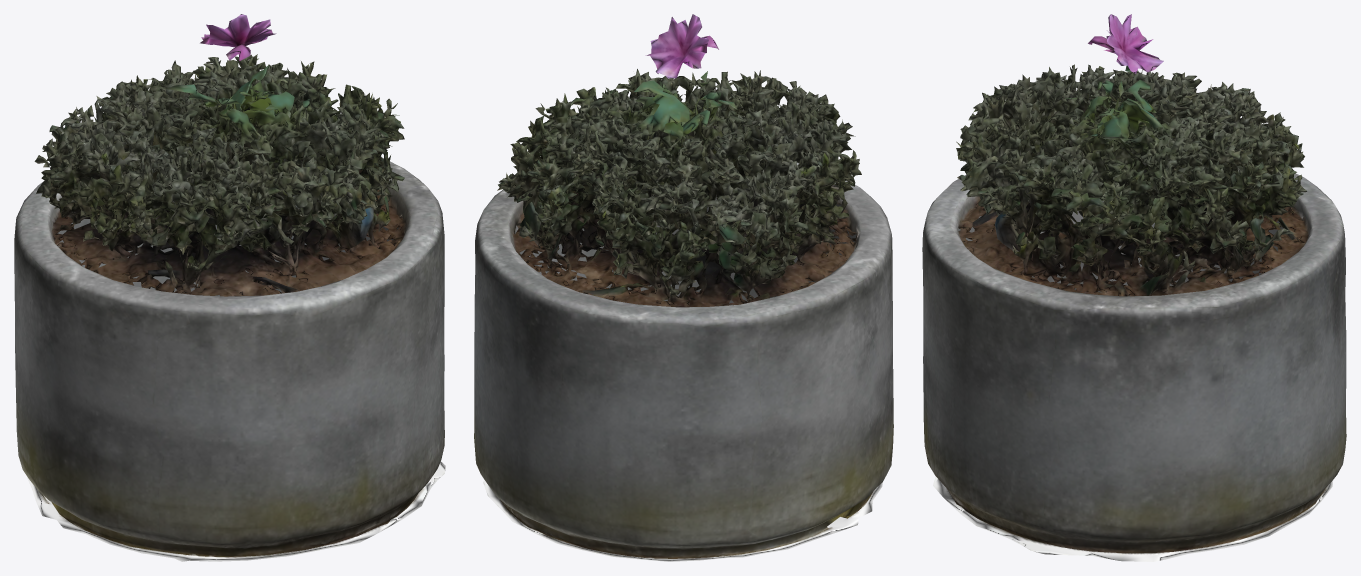
3 views of the same model, side by side, from view 1: azimuth 30°, elevation 25°; view 2: azimuth 150°, elevation 25°; view 3: azimuth 270°, elevation 25° (orthographic). The views are drawn at different scales.
Parts seen in each view (by area): view 1: geometry_0; view 2: geometry_0; view 3: geometry_0.
Boxes of the visible parts, <box> form: geometry_0: <box>14,14,445,561</box>; geometry_0: <box>474,14,893,561</box>; geometry_0: <box>922,14,1346,561</box>.
Bounding box in the file's own units: 0.832 × 0.9953 × 0.8335.
1 material, 1 textured.
